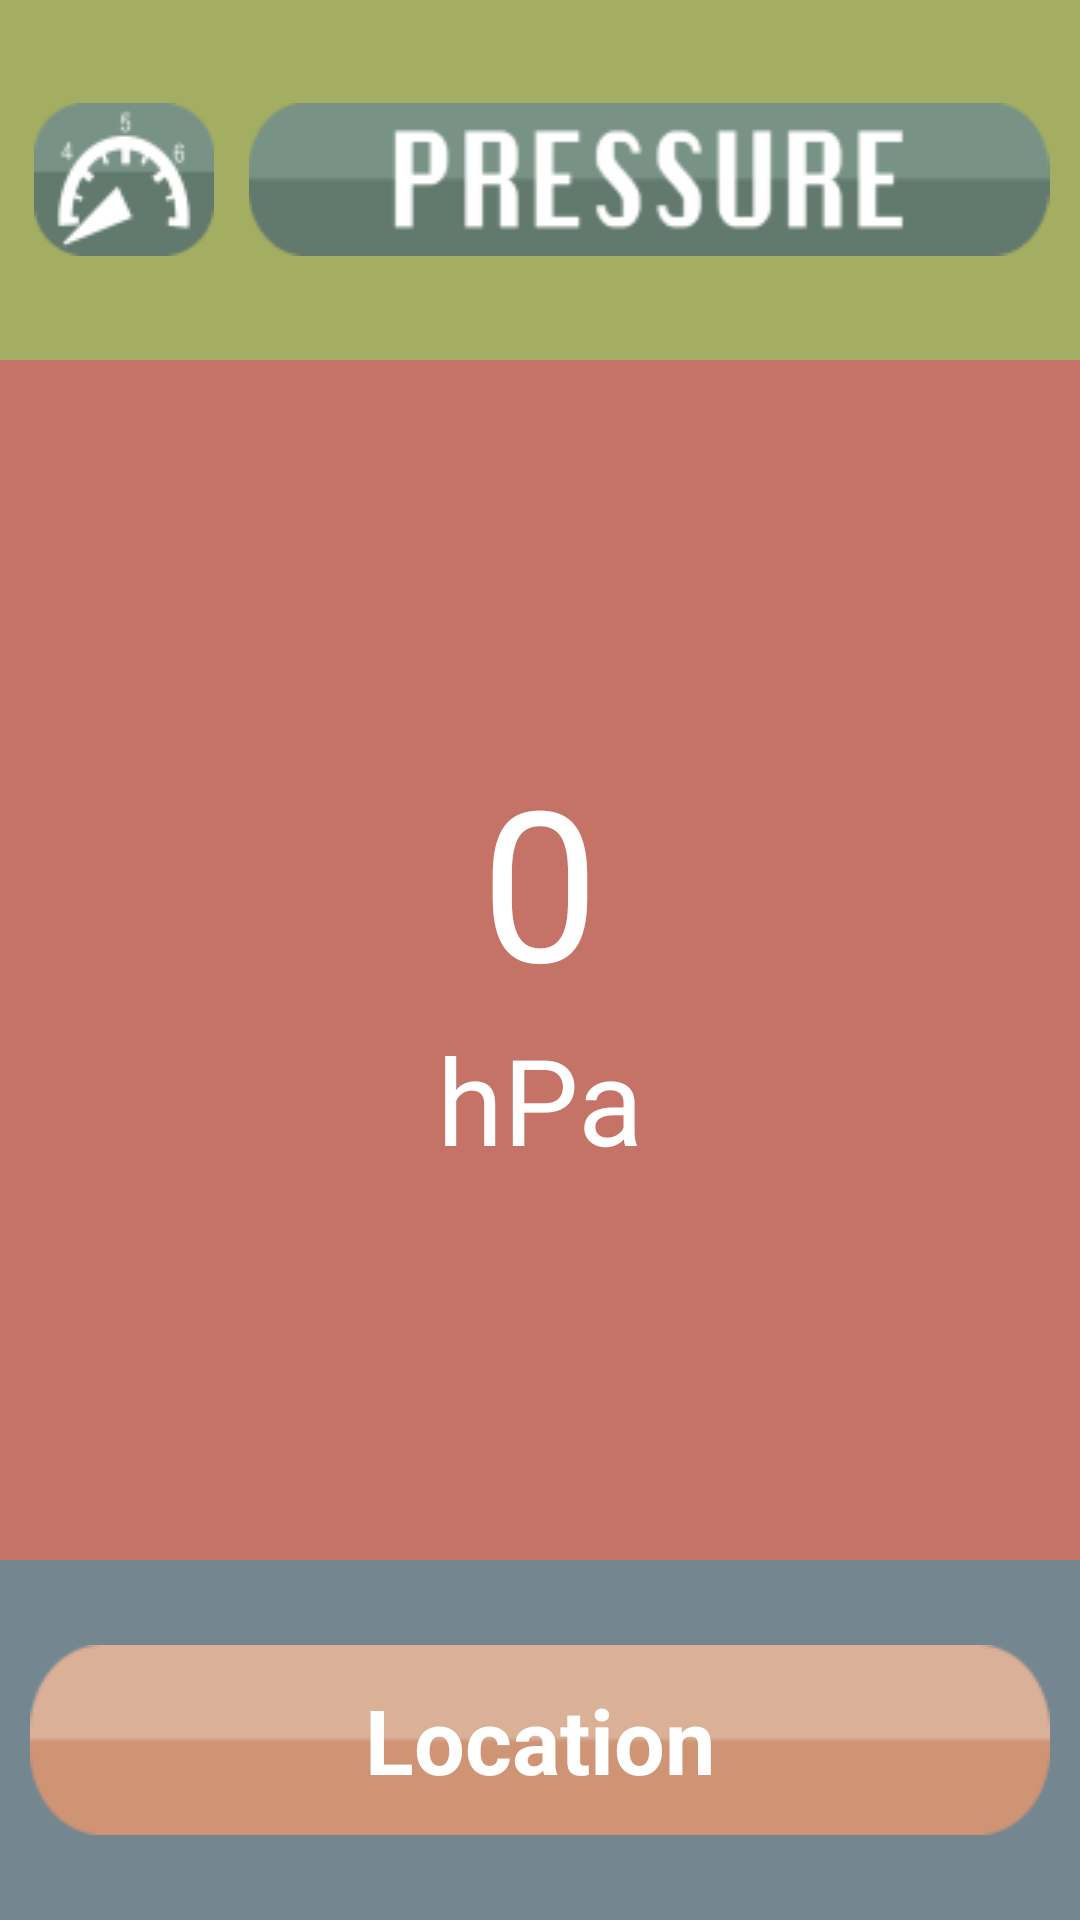

Screen size 1080*1920. Icon name, then its center in pixels as (x,y):
pressure left: (124,179)
